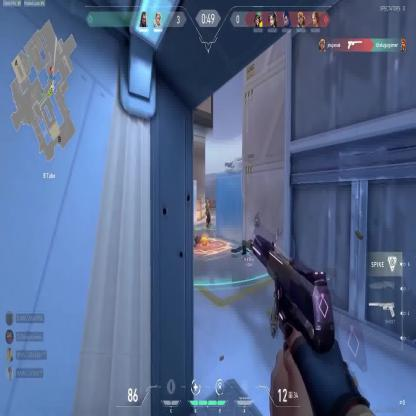enemy: (205, 198, 211, 229)
enemy_head: (207, 199, 209, 204)
